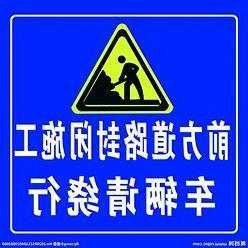sign: (4, 10, 241, 236)
